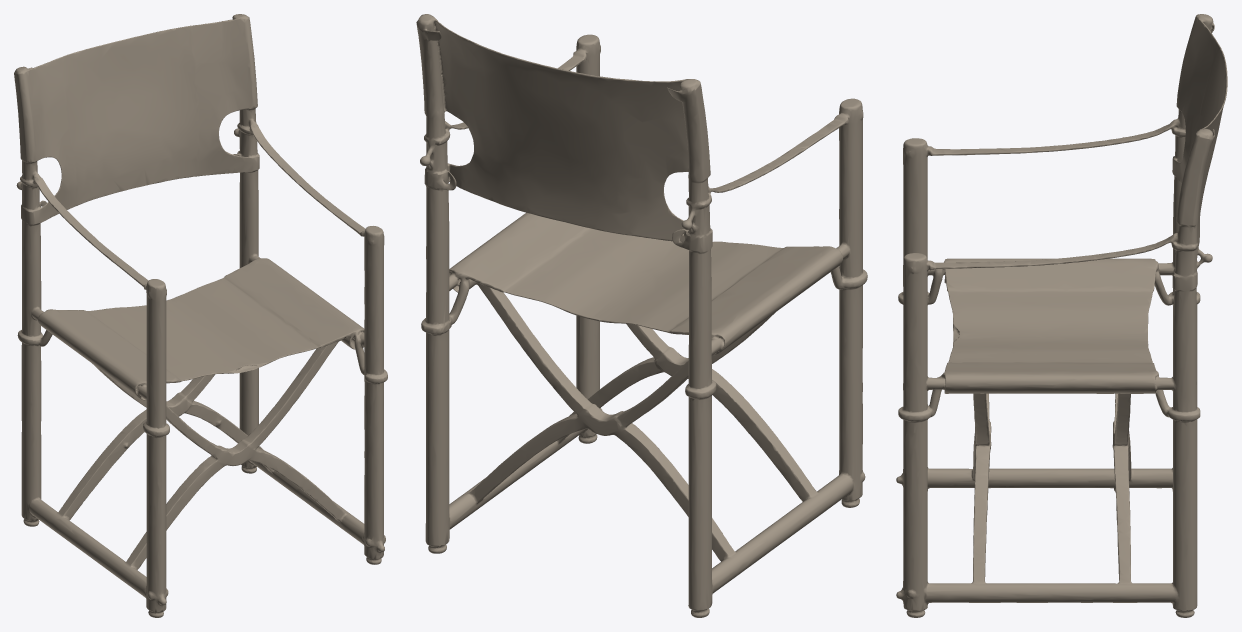
The model's file is model-gentleman.glb.
3 renders of one model, left to right at view 1: azimuth 30°, elevation 25°; view 2: azimuth 150°, elevation 25°; view 3: azimuth 270°, elevation 25°, orthographic. The views are drawn at different scales.
Visible parts, largest first — view 1: mesh_node; view 2: mesh_node; view 3: mesh_node.
Boxes of the visible parts, bbox=[...] form: mesh_node: bbox=[14, 14, 387, 617]; mesh_node: bbox=[416, 14, 867, 617]; mesh_node: bbox=[896, 14, 1227, 617].
Bounding box in the file's own units: 0.5189 × 0.93 × 0.5756.
